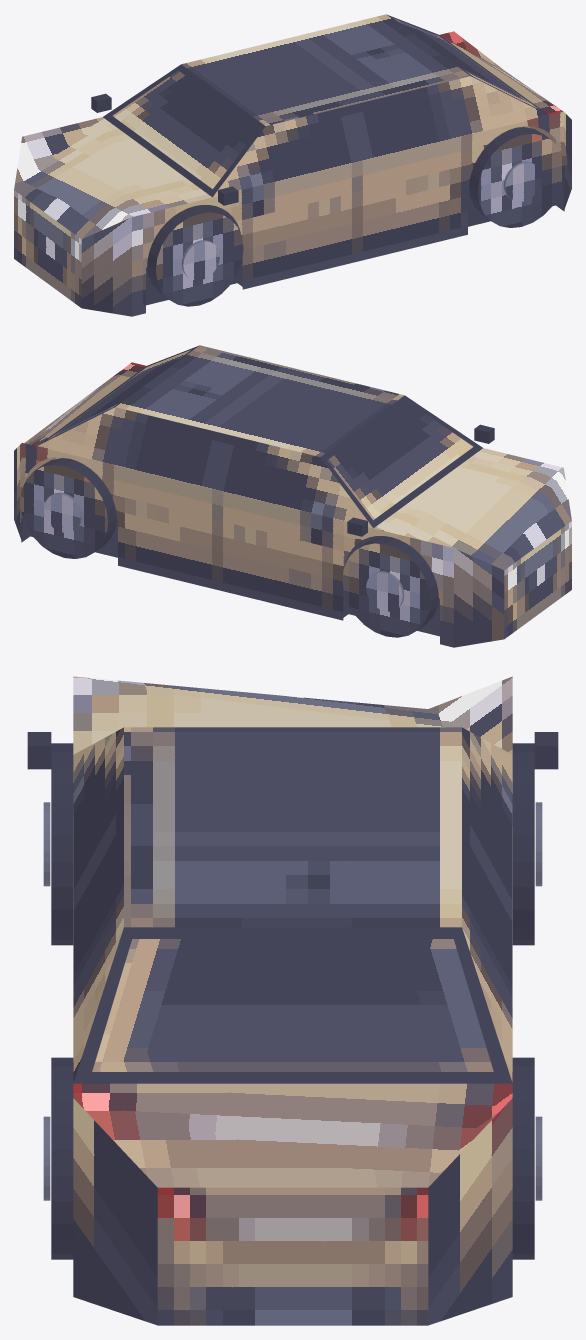
File: car-19-v1.glb
3 renders of one model, top to bottom at view 1: azimuth 30°, elevation 25°; view 2: azimuth 150°, elevation 25°; view 3: azimuth 270°, elevation 25°, orthographic. The views are drawn at different scales.
Parts seen in each view (by area): view 1: Passenger-body-west, Roof, Cabin-windows-west, Hood, Windshield-glass, Tire_RL, Tire_FL, Front-fascia, Front-corner--1, Windshield-frame, Trunk, Rear-window-glass (+7 smaller); view 2: Passenger-body-east, Roof, Cabin-windows-east, Hood, Windshield-glass, Tire_RR, Tire_FR, Front-fascia, Front-corner-1, Windshield-frame, Trunk, Rear-window-glass (+7 smaller); view 3: Roof, Rear-window-glass, Trunk, Rear-fascia, Hood, Rear-corner-1, Rear-corner--1, Cabin-windows-east, Cabin-windows-west, Rear-window-frame, Tire_FL, Tire_FR (+4 smaller).
Boxes of the visible parts, bbox=[...] form: Passenger-body-west: bbox=[132, 112, 564, 316]; Roof: bbox=[181, 14, 470, 125]; Cabin-windows-west: bbox=[213, 76, 548, 197]; Hood: bbox=[14, 117, 211, 239]; Windshield-glass: bbox=[112, 70, 258, 189]; Tire_RL: bbox=[469, 127, 565, 227]; Tire_FL: bbox=[147, 205, 243, 306]; Front-fascia: bbox=[14, 190, 81, 307]; Front-corner--1: bbox=[81, 217, 131, 316]; Windshield-frame: bbox=[103, 64, 265, 197]; Trunk: bbox=[440, 31, 563, 115]; Rear-window-glass: bbox=[394, 18, 537, 108]; Passenger-body-east: bbox=[21, 443, 453, 647]; Roof: bbox=[115, 345, 404, 456]; Cabin-windows-east: bbox=[37, 407, 372, 528]; Hood: bbox=[374, 448, 571, 570]; Windshield-glass: bbox=[327, 401, 473, 520]; Tire_RR: bbox=[20, 458, 116, 558]; Tire_FR: bbox=[342, 536, 438, 637]; Front-fascia: bbox=[504, 521, 571, 638]; Front-corner-1: bbox=[454, 548, 504, 647]; Windshield-frame: bbox=[320, 395, 482, 528]; Trunk: bbox=[24, 362, 145, 446]; Rear-window-glass: bbox=[48, 349, 191, 439]; Roof: bbox=[124, 727, 461, 927]; Rear-window-glass: bbox=[92, 939, 493, 1071]; Trunk: bbox=[73, 1083, 512, 1187]; Rear-fascia: bbox=[157, 1187, 428, 1325]; Hood: bbox=[73, 676, 512, 754]; Rear-corner-1: bbox=[428, 1098, 512, 1325]; Rear-corner--1: bbox=[73, 1098, 157, 1325]; Cabin-windows-east: bbox=[462, 727, 512, 1082]; Cabin-windows-west: bbox=[73, 727, 123, 1082]; Rear-window-frame: bbox=[73, 927, 512, 1083]; Tire_FL: bbox=[51, 743, 73, 945]; Tire_FR: bbox=[512, 743, 534, 945].
Size of the model in its own units: 67 by 19 by 31.4.
Materials: 1 (1 with a texture image).
